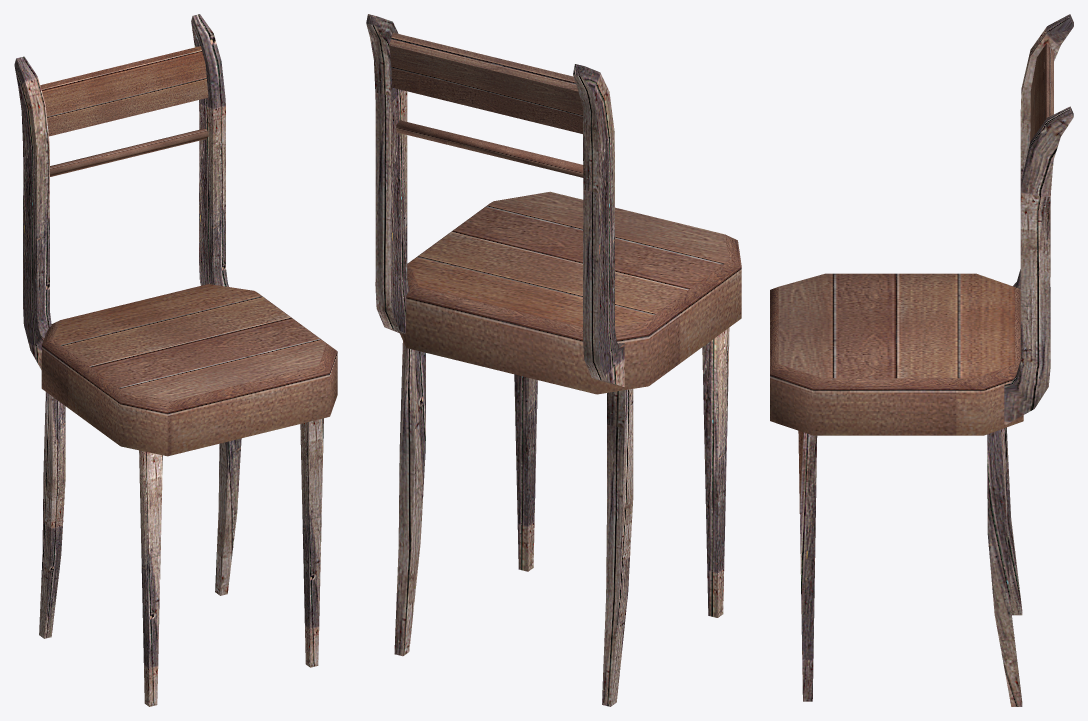
Rendered from M_Home_Garden_Chair_11.fbx.
The picture shows the model from 3 angles, left to right: view 1: azimuth 30°, elevation 25°; view 2: azimuth 150°, elevation 25°; view 3: azimuth 270°, elevation 25°; orthographic projection. The views are drawn at different scales.
Visible parts, largest first — view 1: M_Home_Garden_Chair_11; view 2: M_Home_Garden_Chair_11; view 3: M_Home_Garden_Chair_11.
Boxes of the visible parts, box(x1,y1,x2,y2) form: M_Home_Garden_Chair_11: box(14, 14, 337, 706); M_Home_Garden_Chair_11: box(366, 14, 741, 706); M_Home_Garden_Chair_11: box(770, 14, 1073, 706).
Size of the model in its own units: 44.34 by 110 by 50.85.
